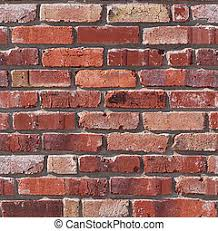brick: (18, 178, 105, 195), (133, 200, 218, 217), (141, 111, 205, 131), (13, 112, 76, 132), (12, 25, 73, 44), (44, 47, 103, 66), (41, 3, 103, 21), (77, 69, 135, 88), (108, 3, 169, 21), (1, 200, 62, 218), (78, 26, 139, 43), (149, 157, 203, 176), (105, 91, 168, 107), (79, 112, 137, 129), (41, 92, 102, 108), (109, 179, 169, 195), (109, 48, 162, 66), (143, 27, 189, 47), (45, 134, 102, 150), (81, 158, 139, 173), (82, 199, 130, 217), (109, 136, 168, 149), (1, 48, 39, 67), (172, 92, 217, 108), (1, 157, 45, 173), (1, 3, 38, 22), (1, 134, 42, 151), (177, 178, 218, 195), (1, 90, 38, 108), (29, 70, 70, 86), (179, 134, 217, 151), (191, 70, 218, 87), (192, 6, 218, 21), (50, 158, 76, 173), (194, 27, 218, 43), (166, 69, 188, 86), (198, 49, 218, 65), (169, 50, 189, 65), (172, 3, 188, 21), (12, 71, 28, 86), (64, 199, 80, 214), (140, 70, 155, 85), (1, 71, 7, 87)
